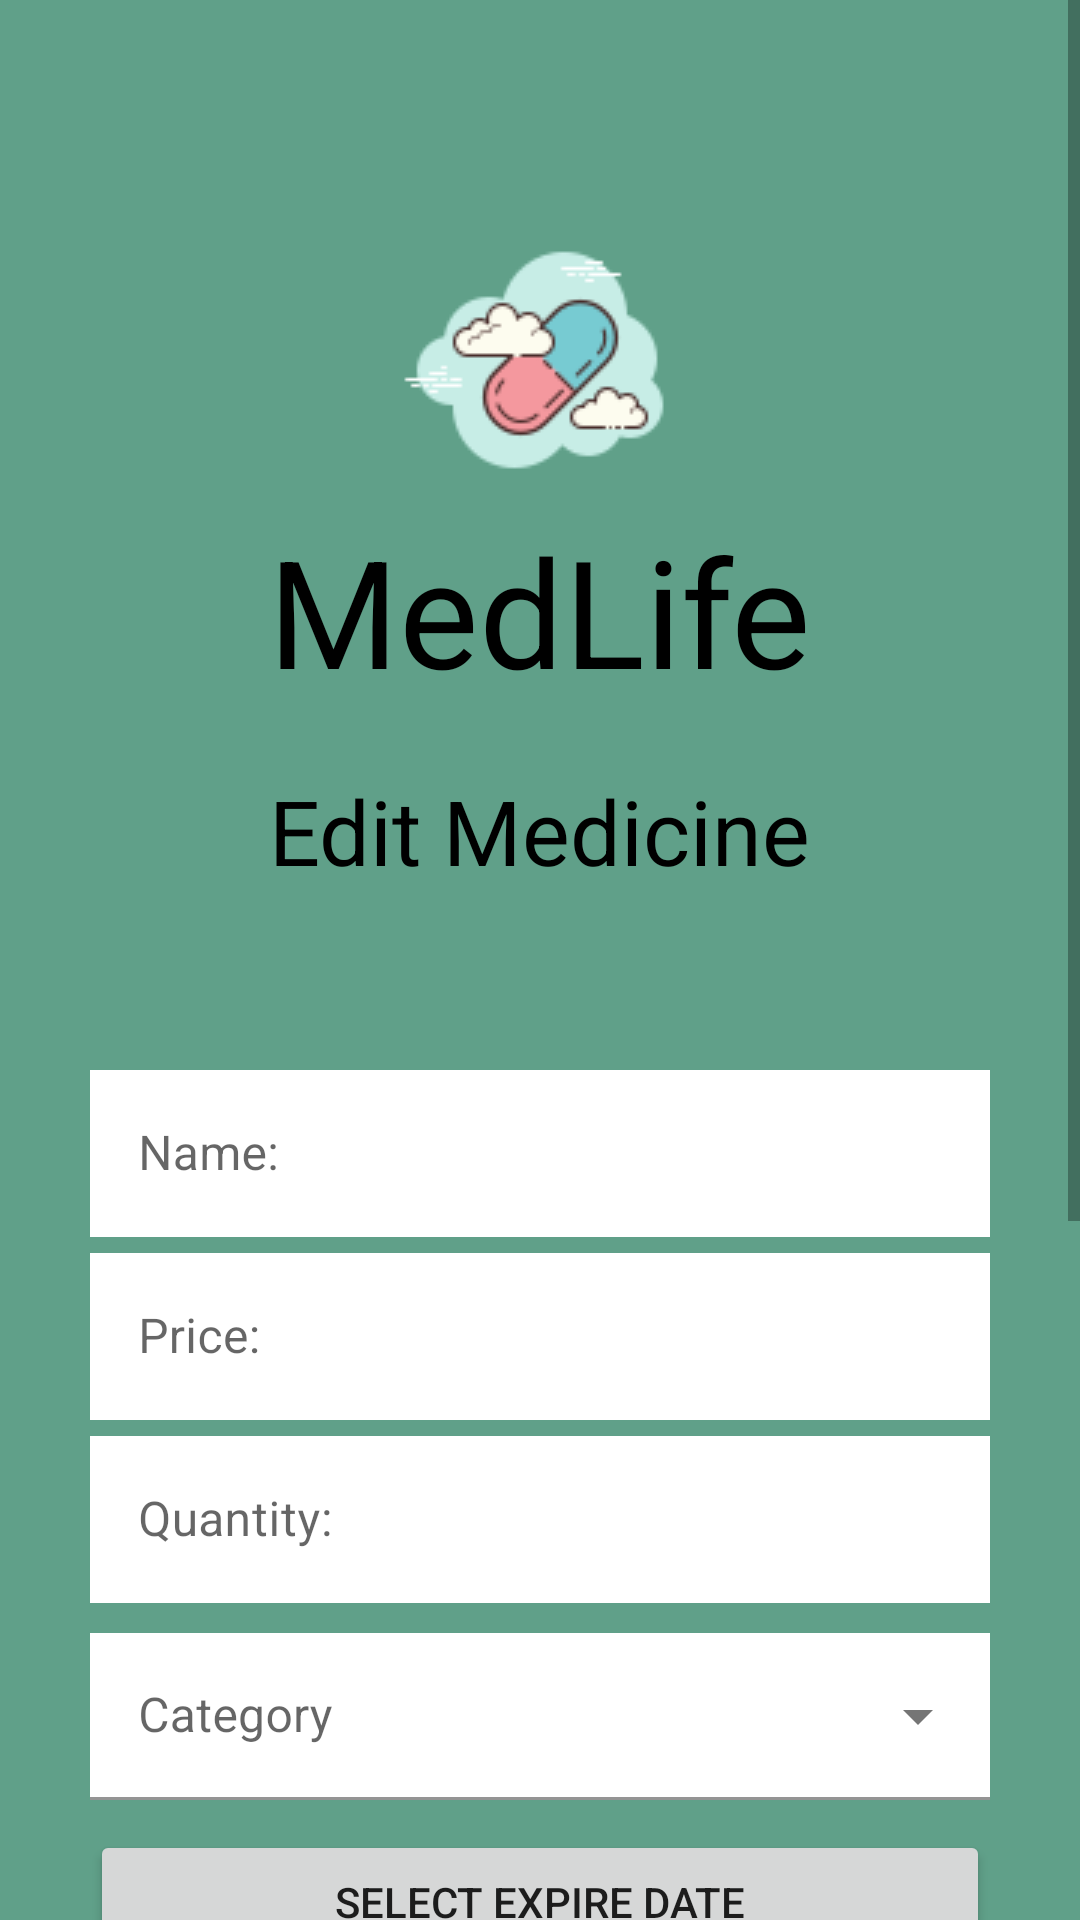

Icon click points for this 1080x1920 phone screenshot, format (x=x, y=y):
pill: (x=534, y=360)
